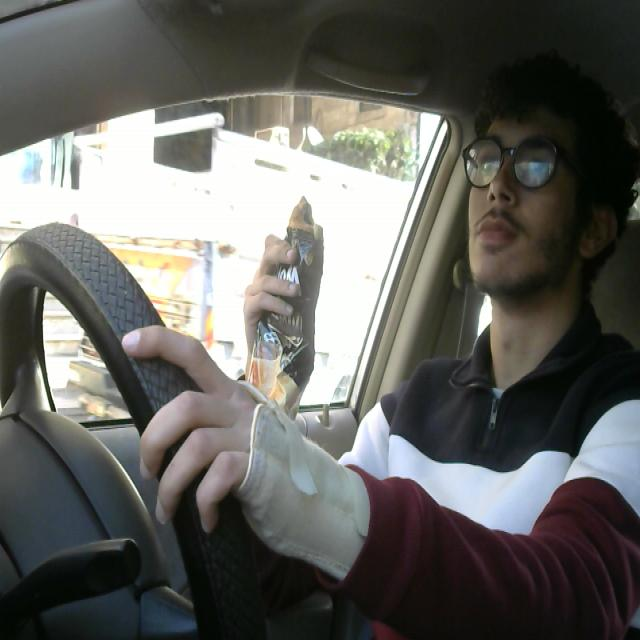eating: (231, 181, 330, 467)
